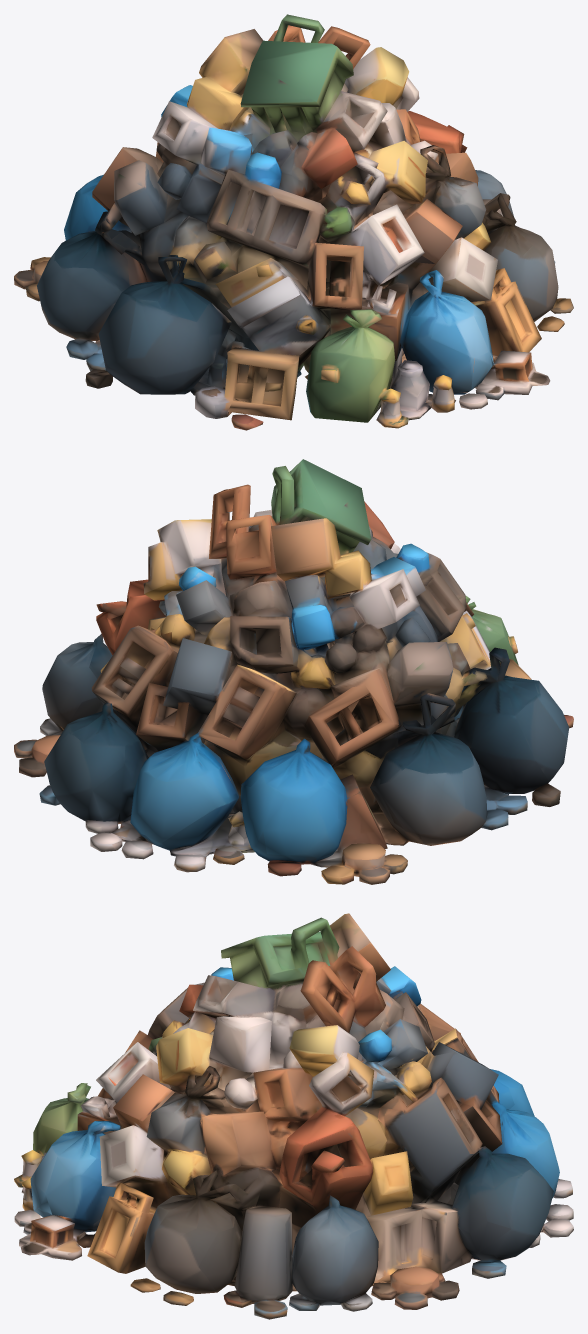
Rendered from junky.fbx.
3 renders of one model, top to bottom at view 1: azimuth 30°, elevation 25°; view 2: azimuth 150°, elevation 25°; view 3: azimuth 270°, elevation 25°, orthographic. The views are drawn at different scales.
Parts seen in each view (by area): view 1: node_0; view 2: node_0; view 3: node_0.
Boxes of the visible parts, x1,y1,x2,y2 form: node_0: (14,14,573,430); node_0: (14,459,573,884); node_0: (14,913,573,1319).
Size of the model in its own units: 0.9657 by 0.5609 by 0.9991.
1 material, 1 textured.
